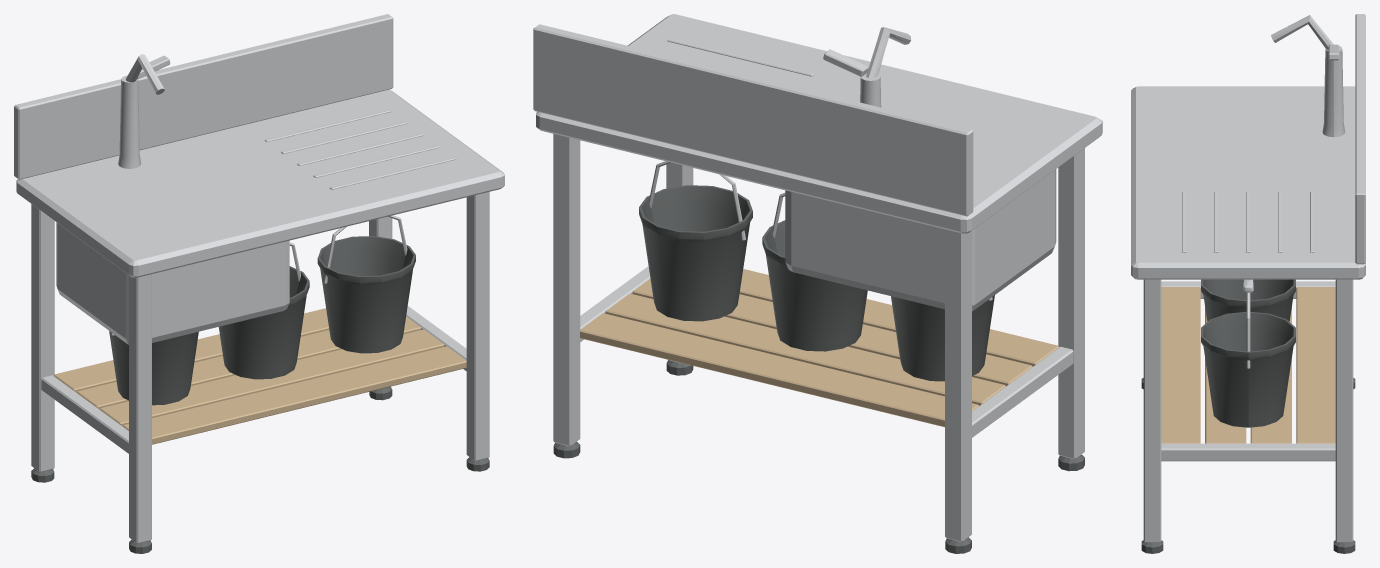
File: garden-centre-and-florist-flower-conditioning-sink-0d77270f__17772.glb
3 views of the same model, side by side, from view 1: azimuth 30°, elevation 25°; view 2: azimuth 150°, elevation 25°; view 3: azimuth 270°, elevation 25° (orthographic). The views are drawn at different scales.
Visible parts, largest first — view 1: flower-conditioning-sink; view 2: flower-conditioning-sink; view 3: flower-conditioning-sink.
Part boxes in pixels (box(x1,y1,x2,y2)): flower-conditioning-sink: box(14, 14, 504, 553); flower-conditioning-sink: box(533, 14, 1102, 553); flower-conditioning-sink: box(1131, 14, 1365, 553).
Bounding box in the file's own units: 1.2 × 1.27 × 0.66.
